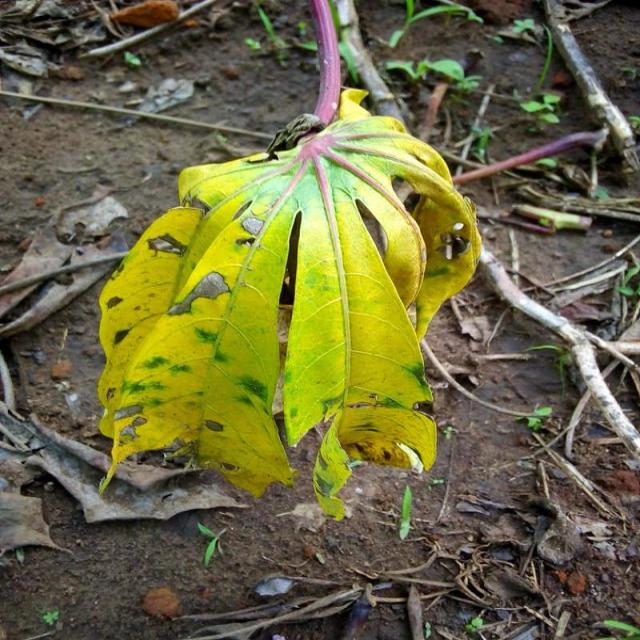cassava leaf: (95, 1, 483, 520)
